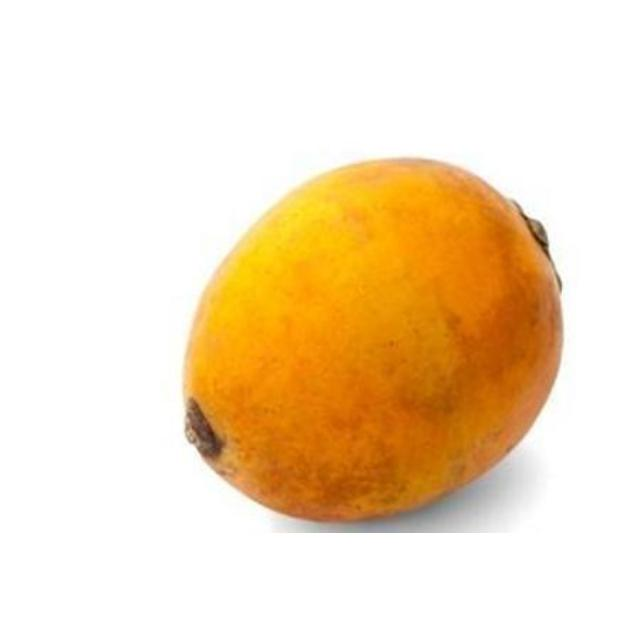good: (182, 158, 563, 525)
